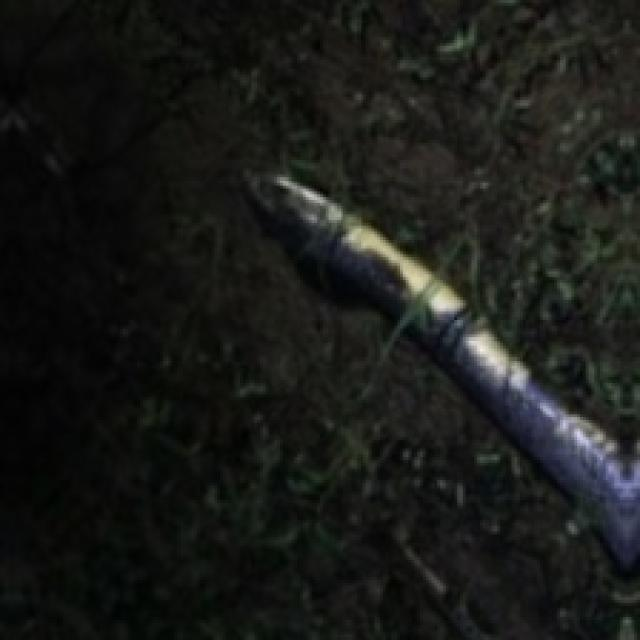king cobra: (246, 174, 637, 571), (246, 174, 637, 569)
